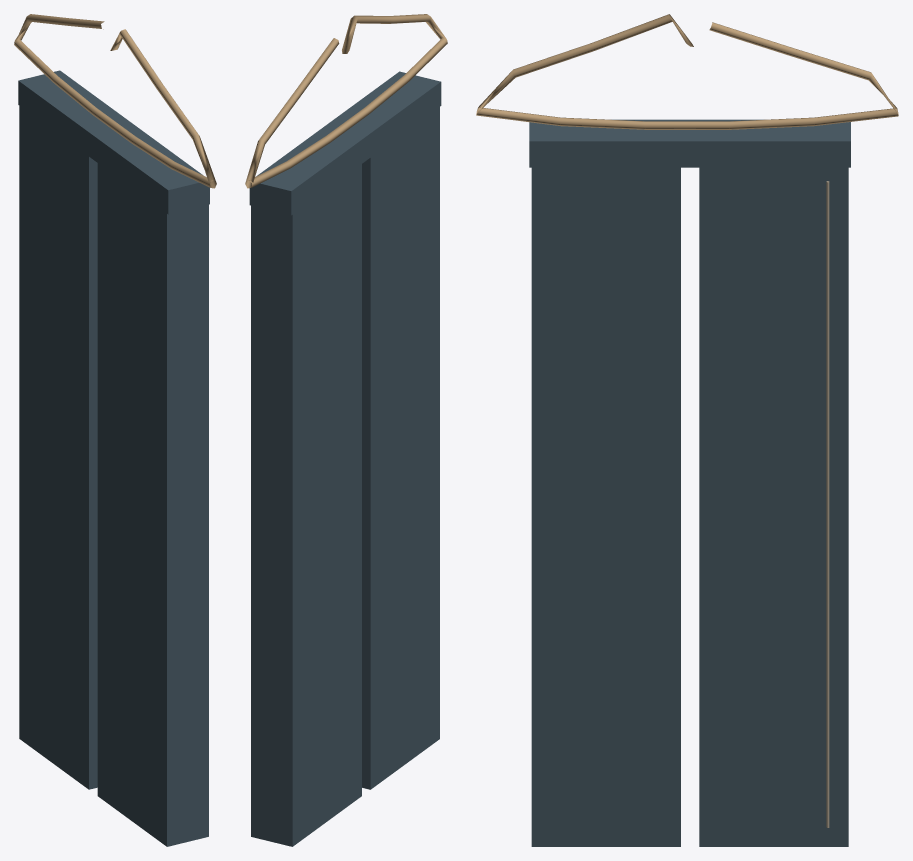
Rendered from trousers-lightweight-49e603230c.glb.
3 renders of one model, left to right at view 1: azimuth 30°, elevation 25°; view 2: azimuth 150°, elevation 25°; view 3: azimuth 270°, elevation 25°, orthographic. The views are drawn at different scales.
Parts seen in each view (by area): view 1: ink, oak; view 2: ink, oak; view 3: ink, oak, sole.
Part boxes in pixels (x1,y1,x2,y2): ink: [18, 70, 209, 846]; oak: [14, 14, 216, 188]; ink: [249, 71, 441, 846]; oak: [245, 14, 447, 188]; ink: [529, 119, 850, 846]; oak: [476, 14, 898, 129]; sole: [826, 181, 829, 827].
Size of the model in its own units: 0.0489 by 0.7891 by 0.3678.
